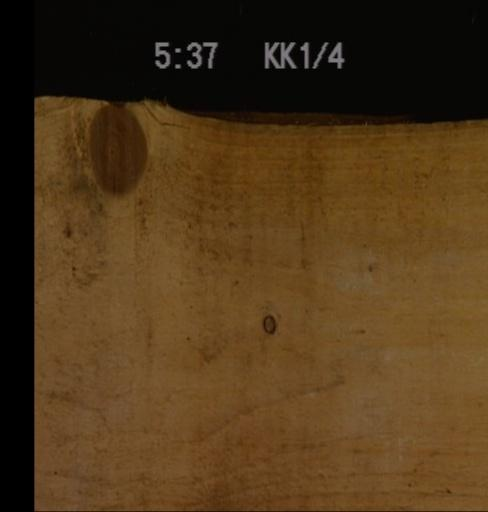dry_knot: (261, 313, 276, 334)
edge_knot: (86, 102, 147, 197)
wave: (187, 111, 412, 126)
